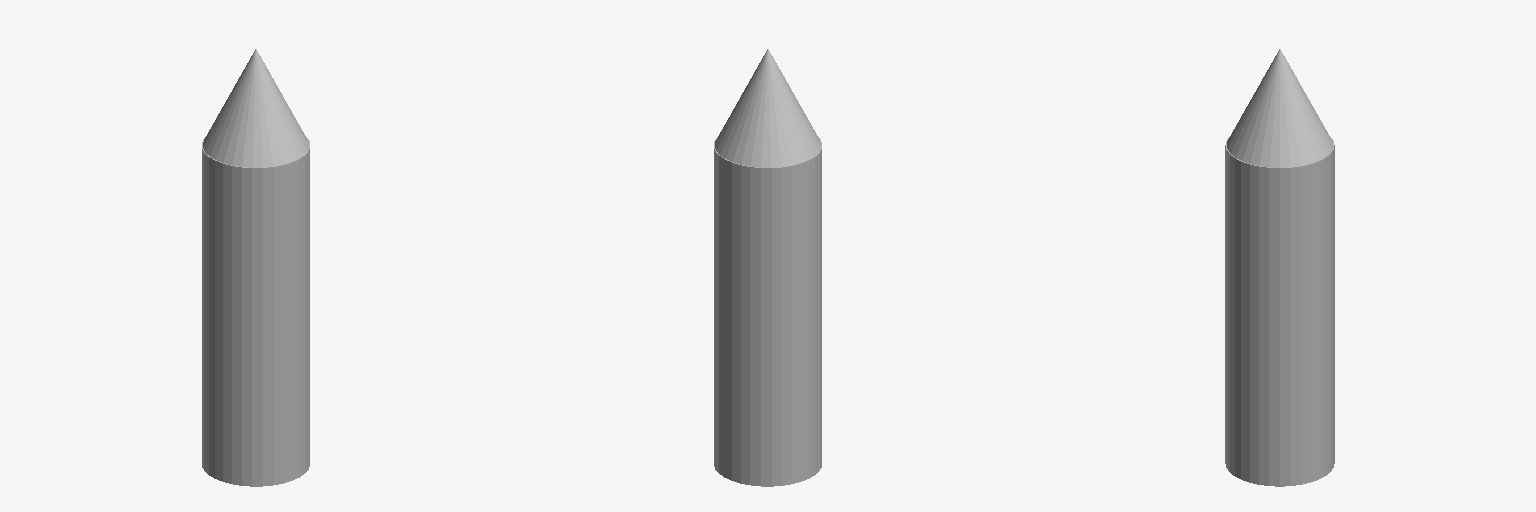
Rendered from rocket.obj.
The picture shows the model from 3 angles: view 1: azimuth 30°, elevation 25°; view 2: azimuth 150°, elevation 25°; view 3: azimuth 270°, elevation 25°; orthographic projection.
Visible parts, largest first — view 1: Cylinder, Cone; view 2: Cylinder, Cone; view 3: Cylinder, Cone.
Part boxes in pixels (bbox=[...]): Cylinder: bbox=[202, 137, 309, 486]; Cone: bbox=[203, 49, 308, 167]; Cylinder: bbox=[714, 137, 821, 486]; Cone: bbox=[715, 49, 820, 167]; Cylinder: bbox=[1225, 138, 1334, 486]; Cone: bbox=[1227, 49, 1332, 167].
Size of the model in its own units: 2 by 8.41 by 2.